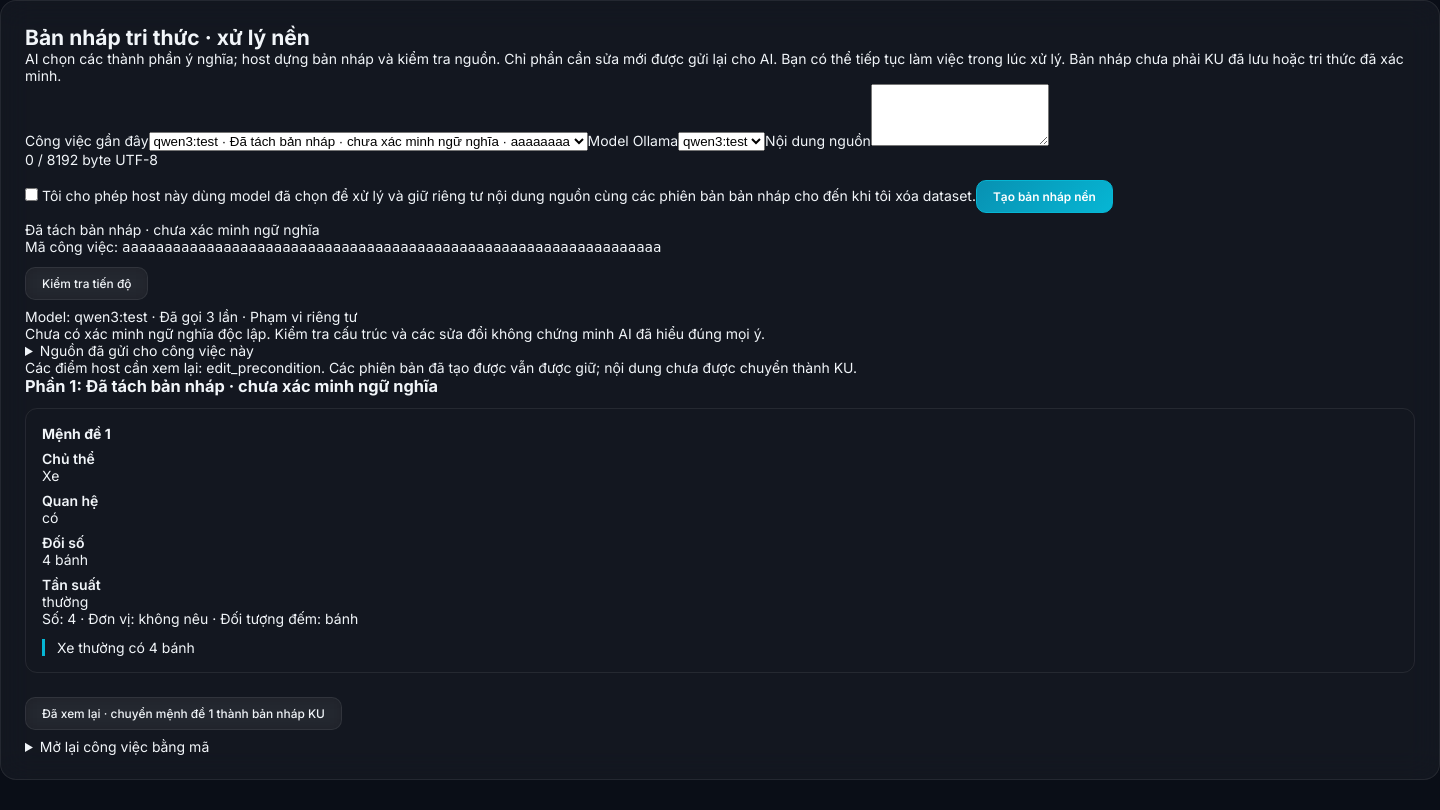
Test: lowers an explicitly reviewed claim, prepares it and saves only on explicit click
Click the button "Đã xem lại · chuyển mệnh đề 1 thành bản nháp KU".
click(183, 714)  # box left=25, top=697, right=342, bottom=730
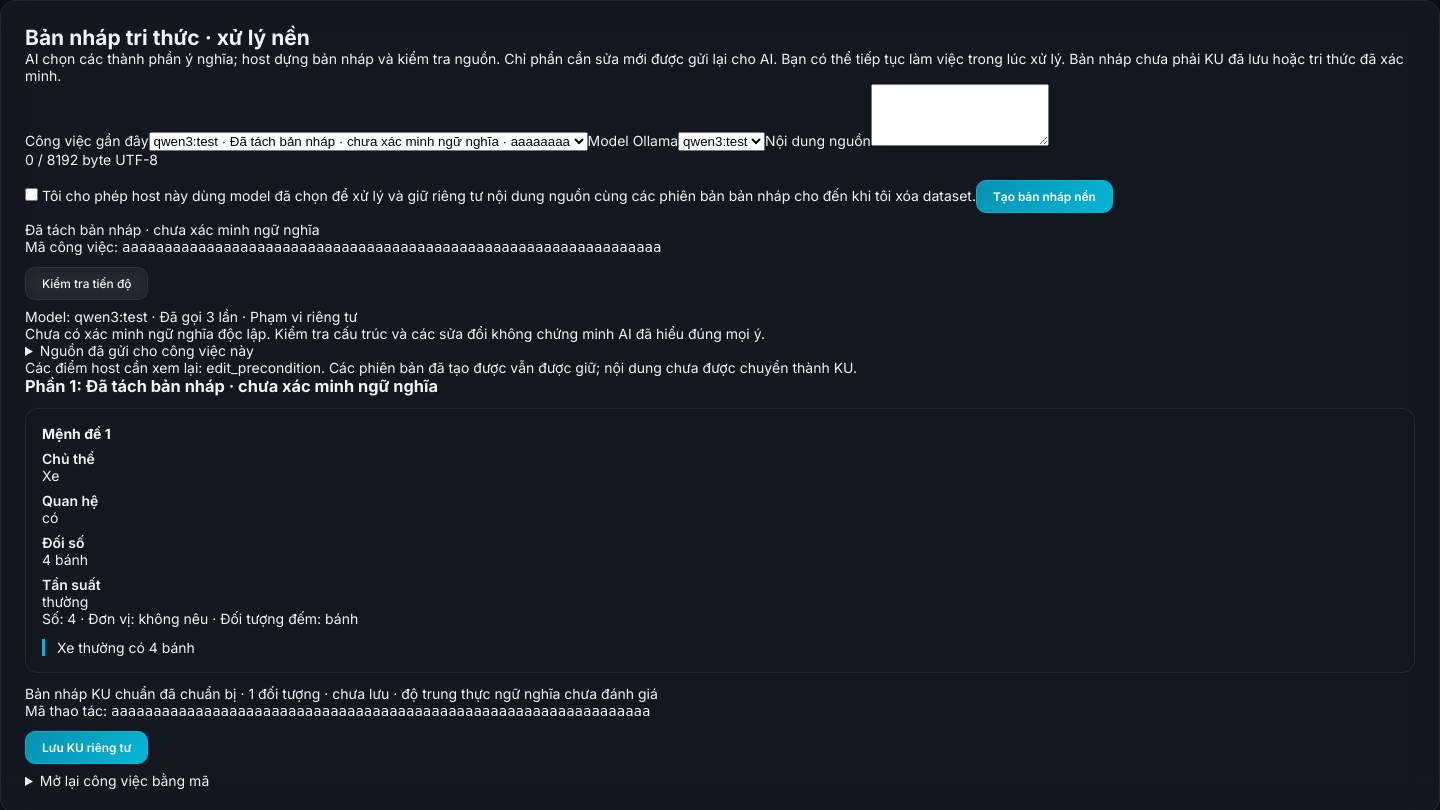
Click the button "Lưu KU riêng tư".
click(87, 748)  # box left=25, top=731, right=148, bottom=764
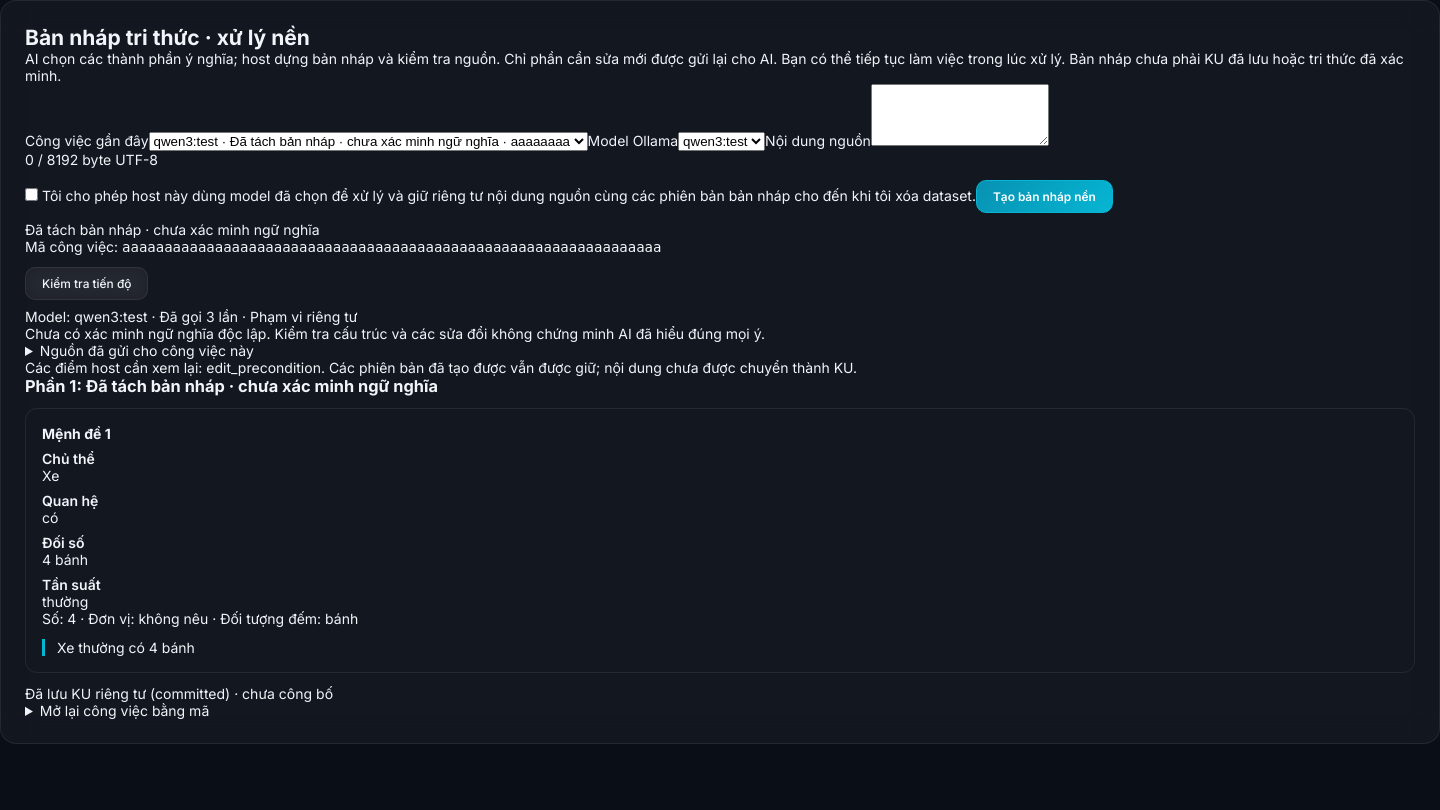
Expected: the text "Đã lưu KU riêng tư (committed) · chưa công bố" is shown, left=25, top=685, right=333, bottom=702
